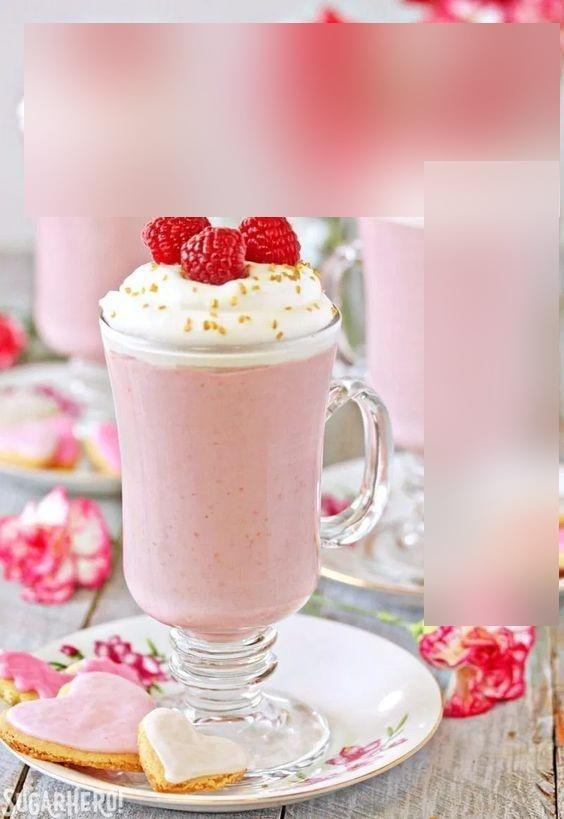glass-mug: (93, 248, 399, 788)
